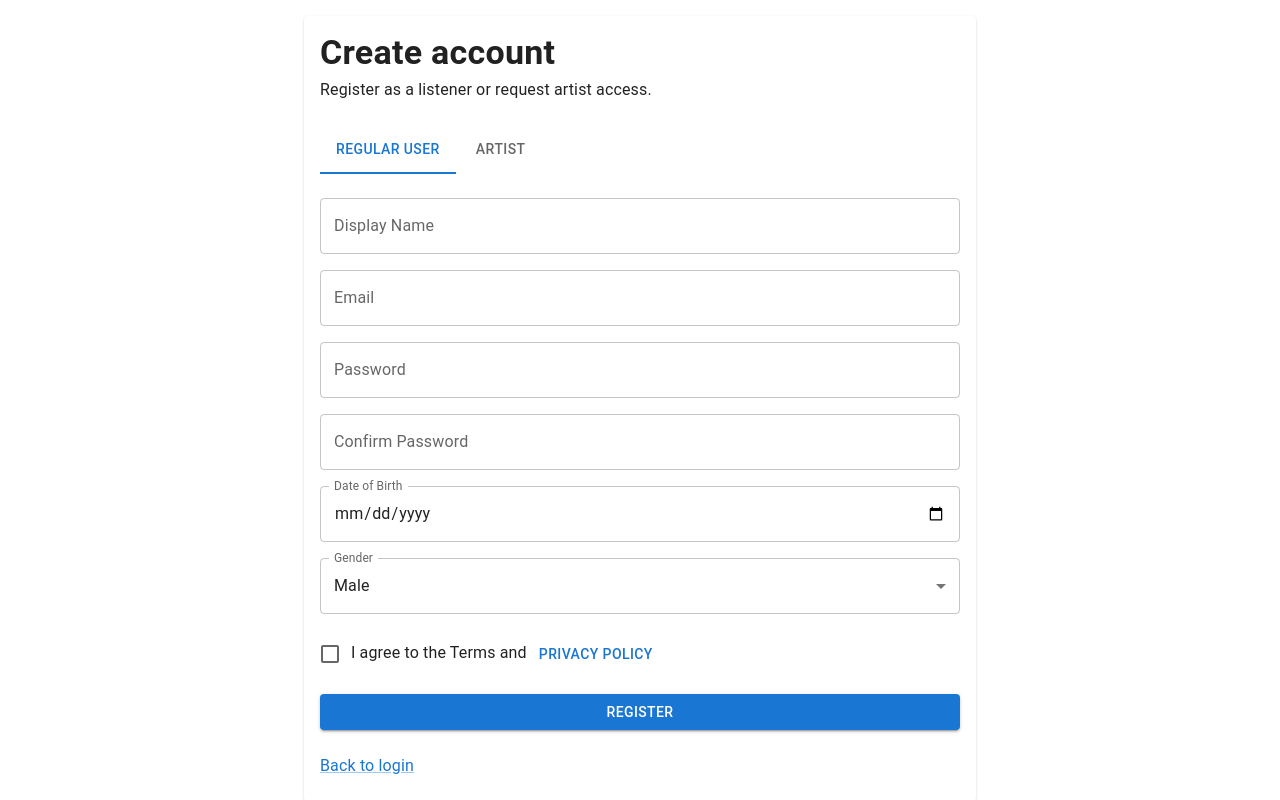
Test: RegisterPage › opens the privacy policy dialog
The width and height of the screenshot is (1280, 800).
Click the button "Privacy Policy": {"x": 596, "y": 654} [531,636,661,672]
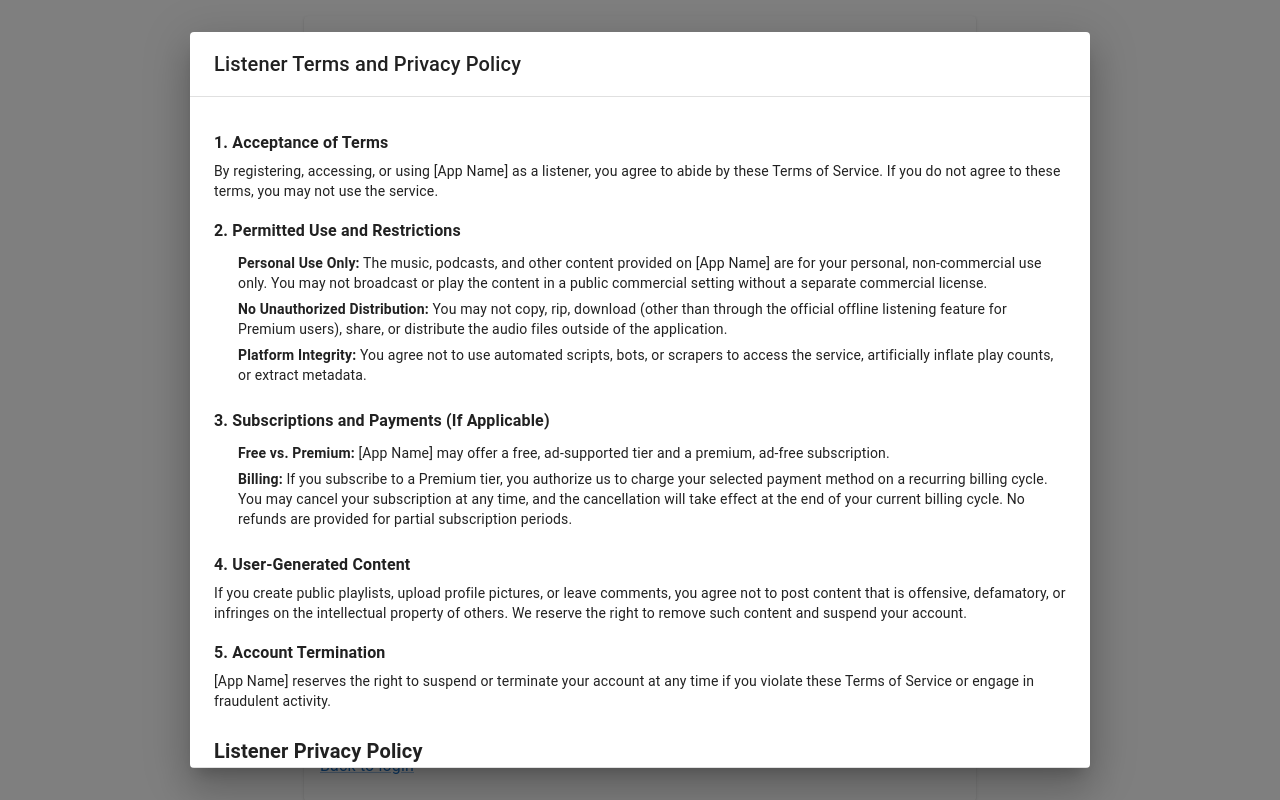
Now the dialog shows "Privacy Policy", box [214,52,521,76]
Now the dialog shows "Listener Terms and Privacy Policy", box [214,52,521,76]
